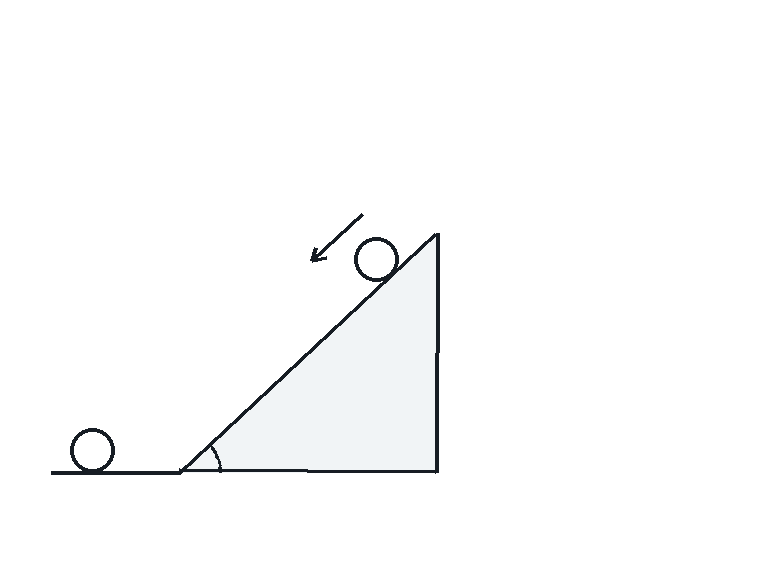ball: (352, 235, 400, 283), (68, 426, 116, 474)
ramp: (178, 231, 438, 474)
